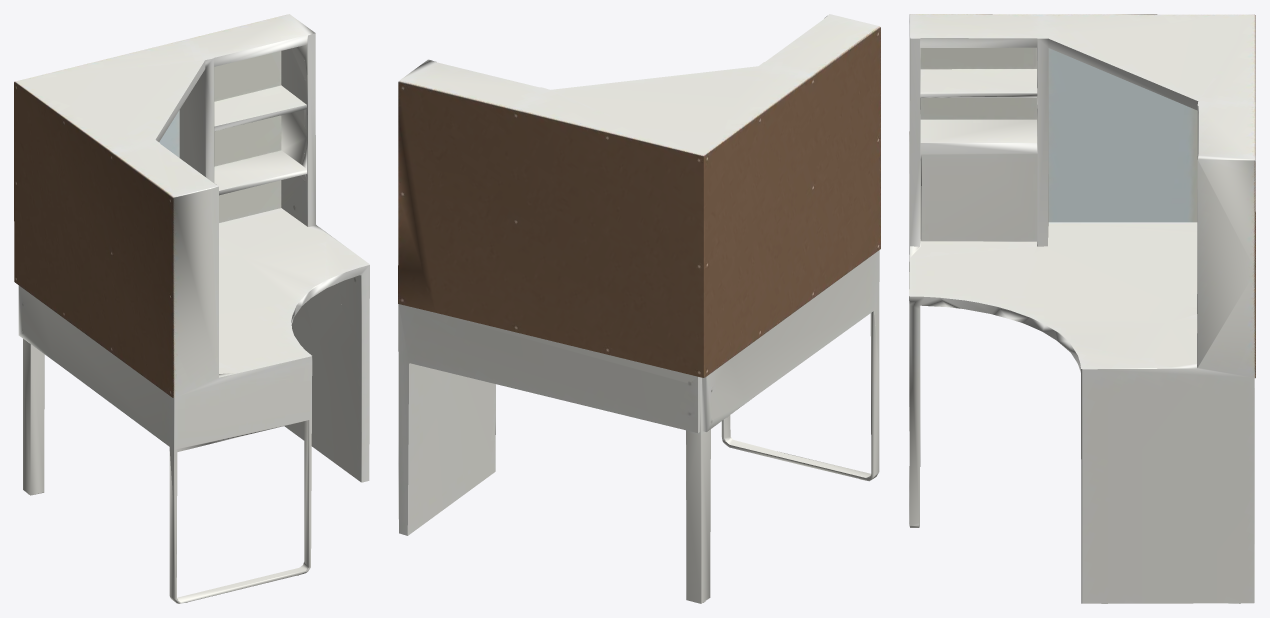
File: 31 - MICKE - 轉角工作站, 白色, 100x142 公分 IKEA 線上購物.glb
3 views of the same model, side by side, from view 1: azimuth 30°, elevation 25°; view 2: azimuth 150°, elevation 25°; view 3: azimuth 270°, elevation 25° (orthographic). The views are drawn at different scales.
Visible parts, largest first — view 1: ProcessedMeshNode; view 2: ProcessedMeshNode; view 3: ProcessedMeshNode.
Part boxes in pixels (box(x1,y1,x2,y2)): ProcessedMeshNode: box(14, 14, 369, 603); ProcessedMeshNode: box(398, 14, 880, 603); ProcessedMeshNode: box(909, 14, 1255, 603).
Size of the model in its own units: 0.9991 by 1.42 by 0.9991.
Materials: 1 (1 with a texture image).
